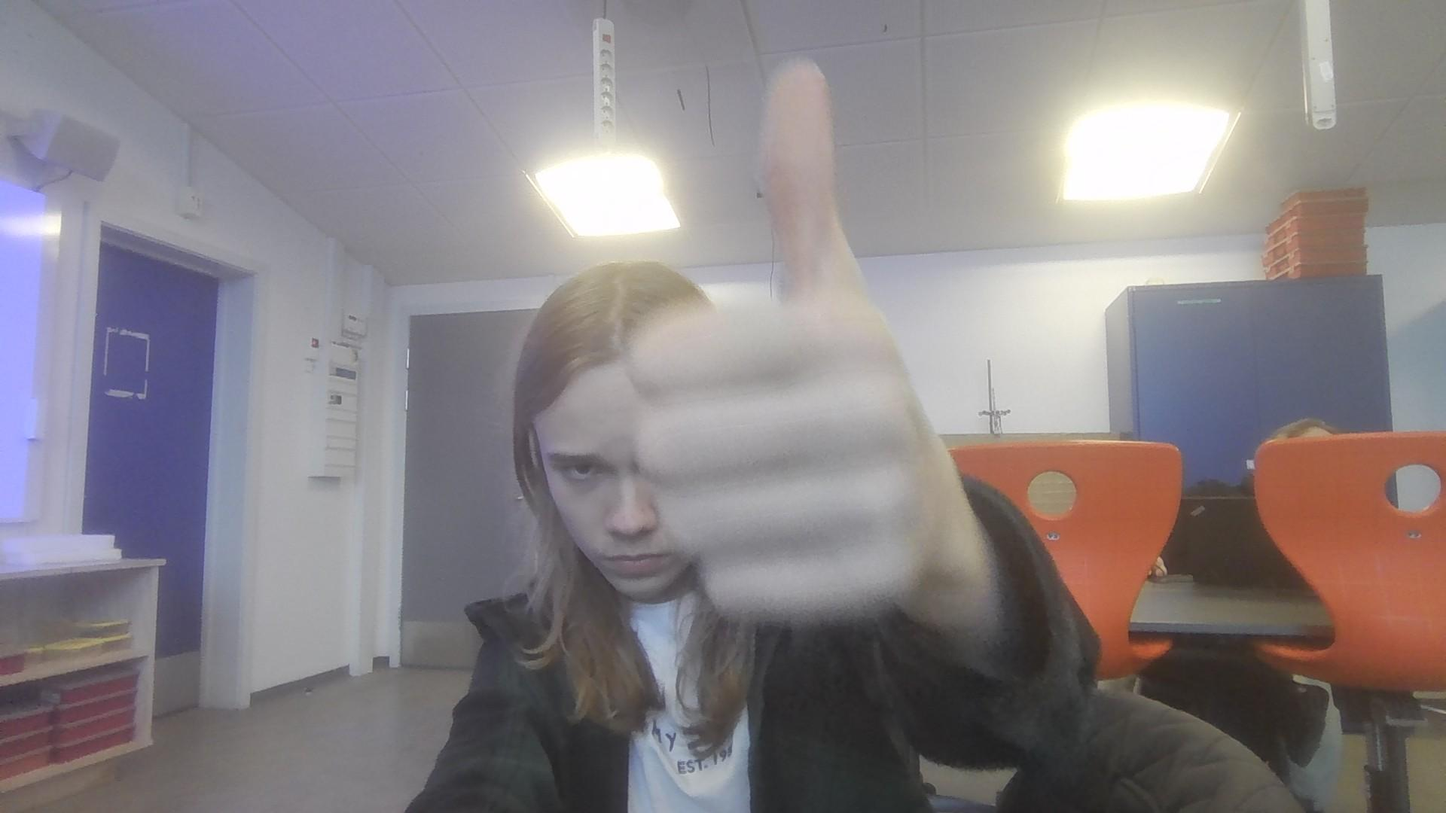thumbs up: (625, 57, 951, 641)
